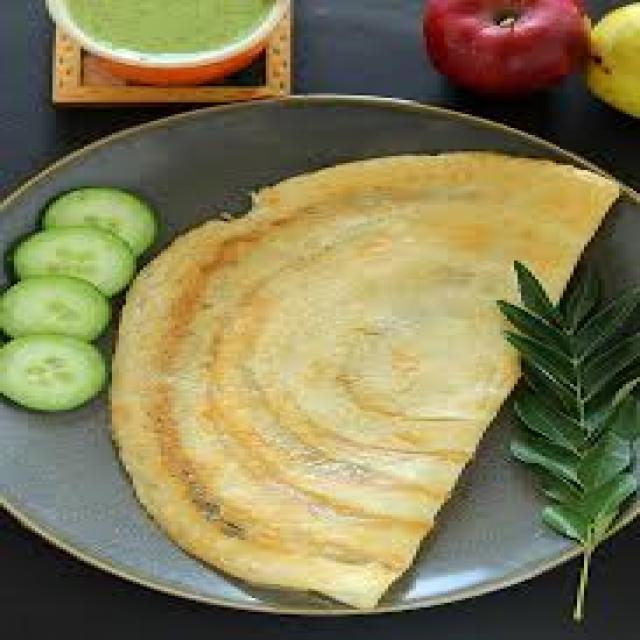DOSA: (110, 156, 618, 602)
